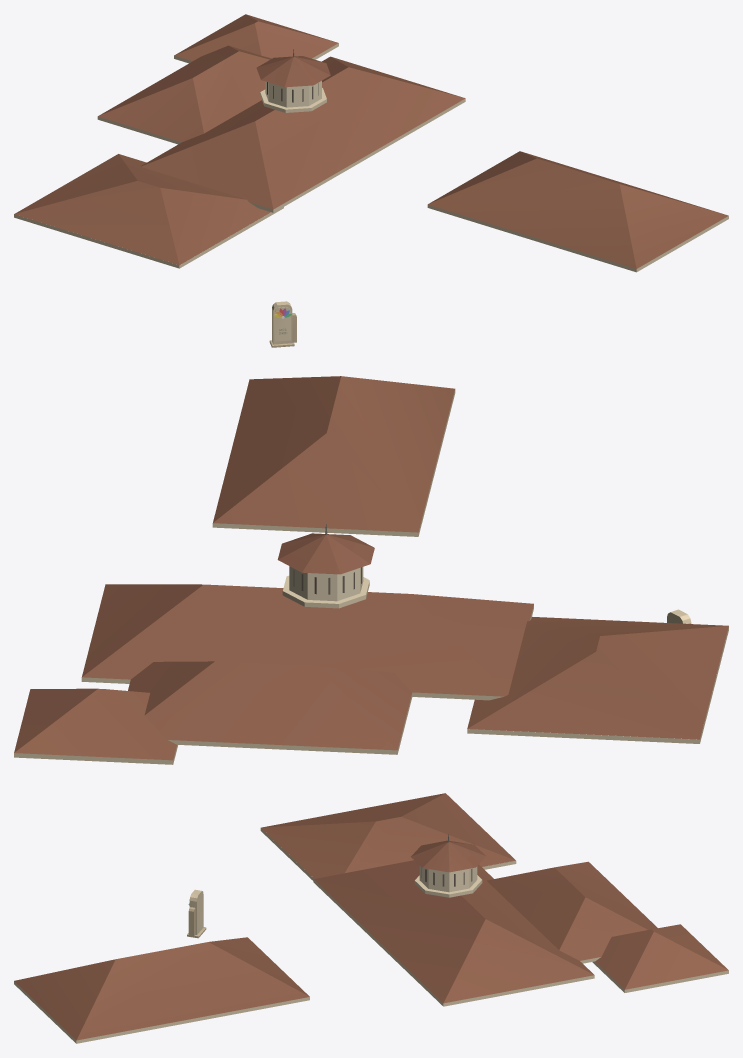
The model's file is dreamworks-nbc.glb.
The picture shows the model from 3 angles, top to bottom: view 1: azimuth 30°, elevation 25°; view 2: azimuth 150°, elevation 25°; view 3: azimuth 270°, elevation 25°; orthographic projection. The views are drawn at different scales.
Parts seen in each view (by area): view 1: dreamworks-nbc-tile, dreamworks-nbc-stucco, dreamworks-nbc-stone; view 2: dreamworks-nbc-tile, dreamworks-nbc-stucco; view 3: dreamworks-nbc-tile, dreamworks-nbc-stucco, dreamworks-nbc-stone.
Part boxes in pixels (x1,y1,x2,y2): dreamworks-nbc-tile: [14, 14, 728, 268]; dreamworks-nbc-stucco: [14, 43, 728, 272]; dreamworks-nbc-stone: [269, 301, 296, 347]; dreamworks-nbc-tile: [14, 376, 728, 760]; dreamworks-nbc-stucco: [14, 389, 728, 764]; dreamworks-nbc-tile: [14, 793, 728, 1040]; dreamworks-nbc-stucco: [14, 828, 728, 1043]; dreamworks-nbc-stone: [187, 889, 206, 938].
Size of the model in its own units: 32.71 by 9.95 by 38.9.
